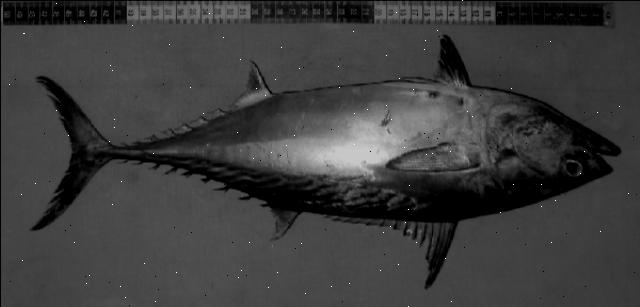Mulut: (582, 120, 630, 187)
Sirip Anal: (133, 54, 277, 144)
Sirip Dada: (376, 138, 472, 176)
Sirip Ekor: (19, 66, 111, 236)
Sirip Perut: (422, 29, 471, 93)
Sirip Punggung: (260, 199, 458, 293)
